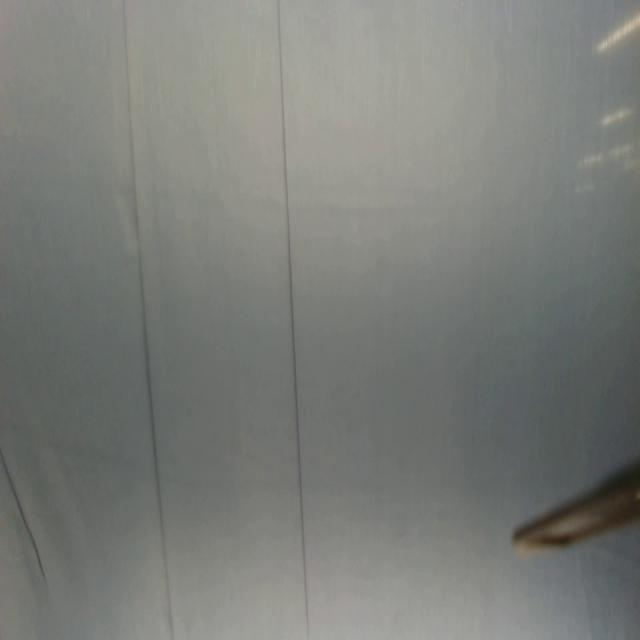crease: (121, 0, 176, 640), (275, 0, 311, 640), (0, 442, 51, 588)
